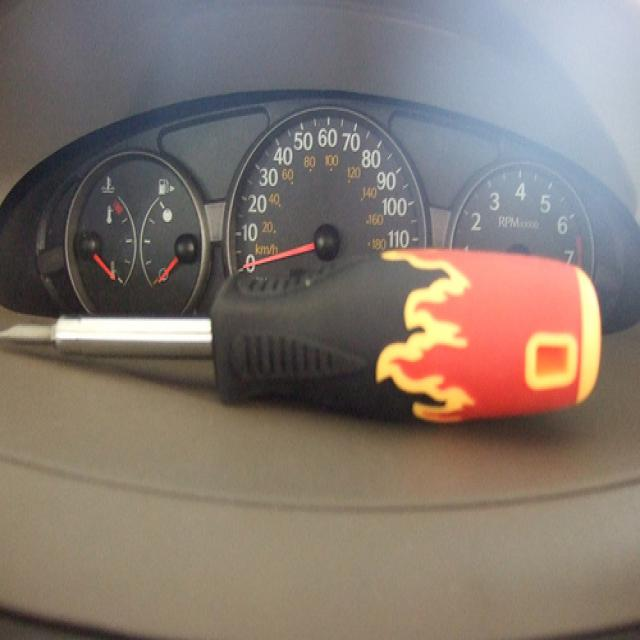screw driver: (0, 236, 621, 456)
